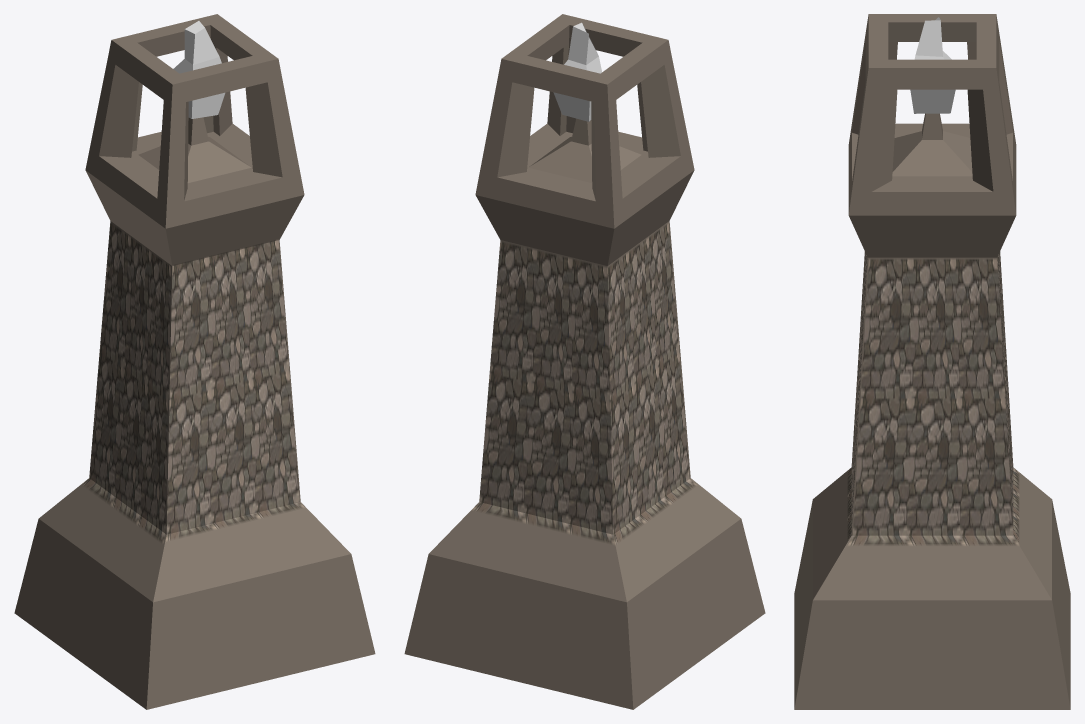
Rendered from FireLight.fbx.
The picture shows the model from 3 angles, left to right: view 1: azimuth 30°, elevation 25°; view 2: azimuth 150°, elevation 25°; view 3: azimuth 270°, elevation 25°; orthographic projection. The views are drawn at different scales.
Visible parts, largest first — view 1: FireLight, Fire; view 2: FireLight, Fire; view 3: FireLight, Fire.
Boxes of the visible parts, x1,y1,x2,y2 form: FireLight: [14, 14, 375, 709]; Fire: [173, 21, 225, 118]; FireLight: [404, 14, 765, 709]; Fire: [553, 22, 601, 121]; FireLight: [794, 14, 1070, 709]; Fire: [910, 17, 955, 113].
Bounding box in the file's own units: 82 × 208 × 82.
3 materials, 1 textured.
